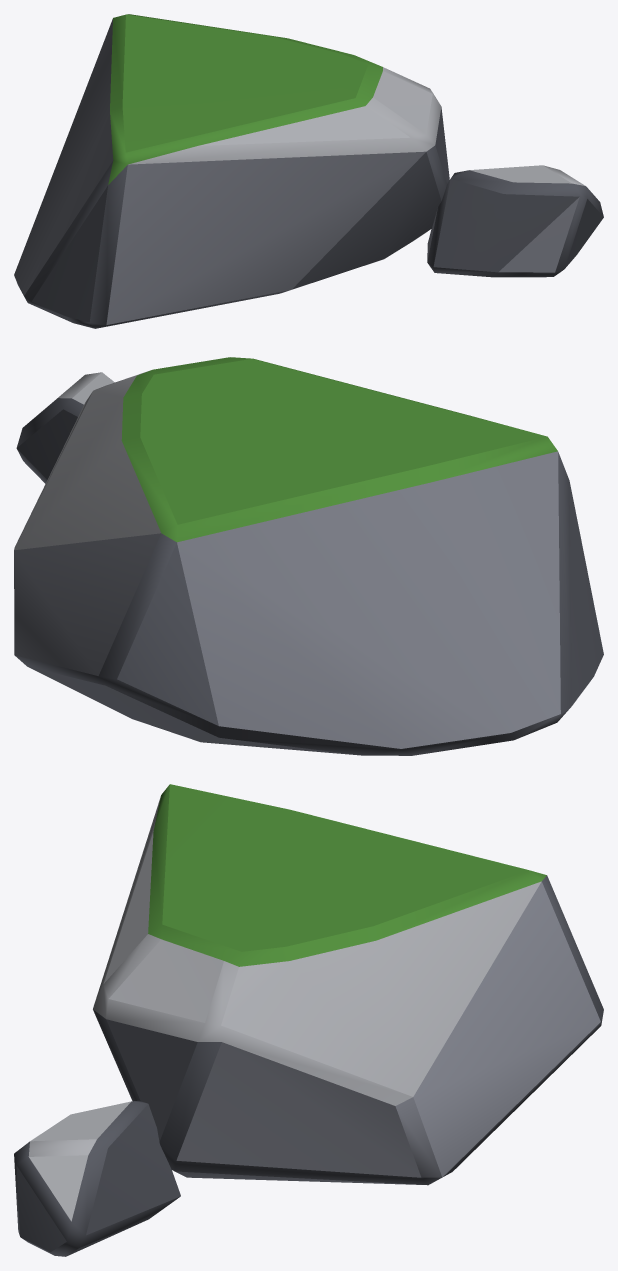
Rendered from Rock_01.glb.
3 renders of one model, top to bottom at view 1: azimuth 30°, elevation 25°; view 2: azimuth 150°, elevation 25°; view 3: azimuth 270°, elevation 25°, orthographic. The views are drawn at different scales.
Parts seen in each view (by area): view 1: Rock_01; view 2: Rock_01; view 3: Rock_01.
Part boxes in pixels (x1,y1,x2,y2): Rock_01: (14, 14, 603, 328); Rock_01: (14, 357, 603, 755); Rock_01: (14, 784, 603, 1256).
Size of the model in its own units: 2.99 by 1.02 by 2.4.
